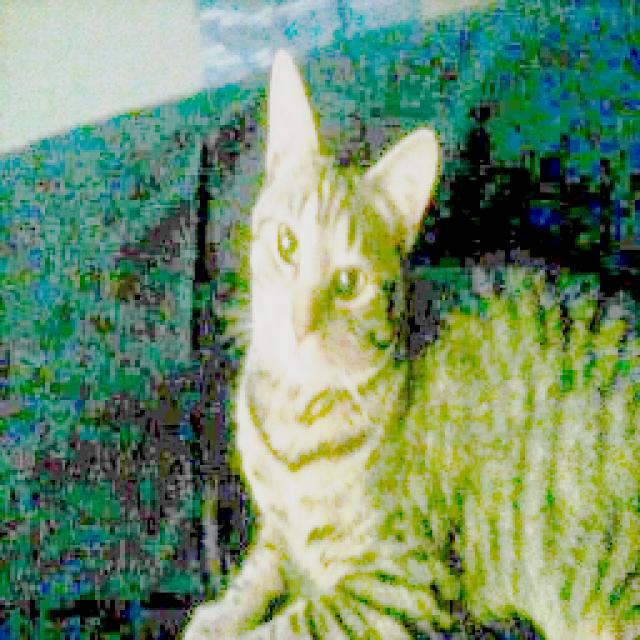cat: (182, 47, 640, 640)
